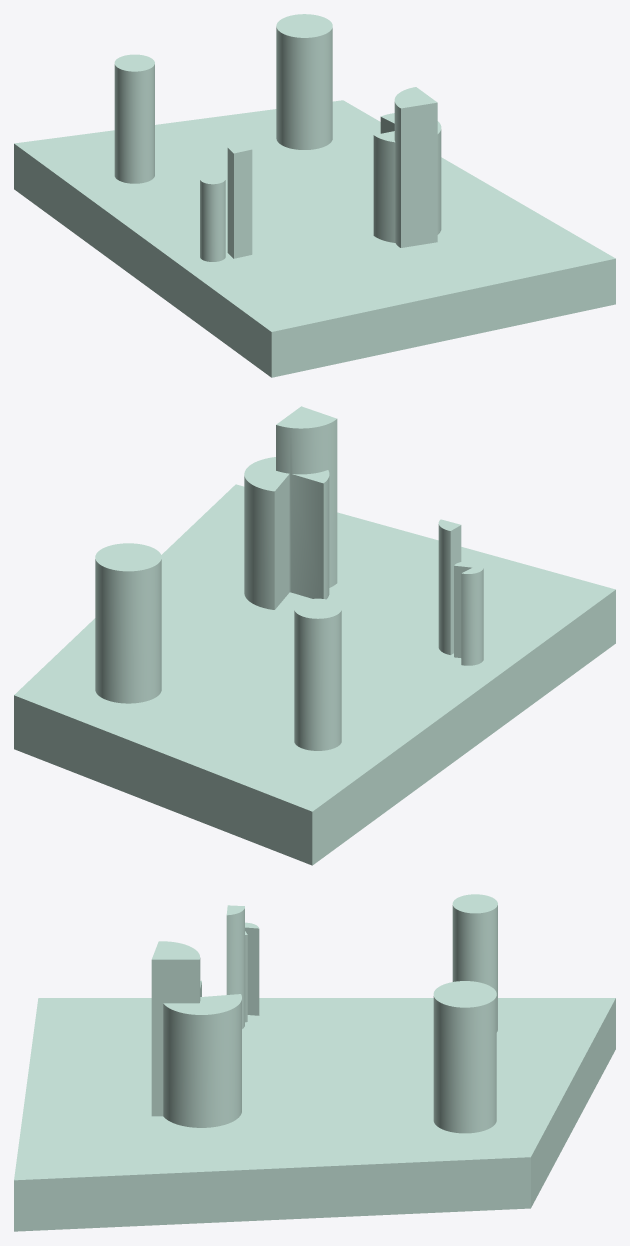
3 views of the same model, one above another, from view 1: azimuth 30°, elevation 25°; view 2: azimuth 150°, elevation 25°; view 3: azimuth 270°, elevation 25° (orthographic). The views are drawn at different scales.
Visible parts, largest first — view 1: Renderer Node; view 2: Renderer Node; view 3: Renderer Node.
Part boxes in pixels (x1,y1,x2,y2): Renderer Node: (14,14,615,377); Renderer Node: (14,406,615,865); Renderer Node: (14,894,615,1231).
Size of the model in its own units: 1.19 by 0.6328 by 1.66.
